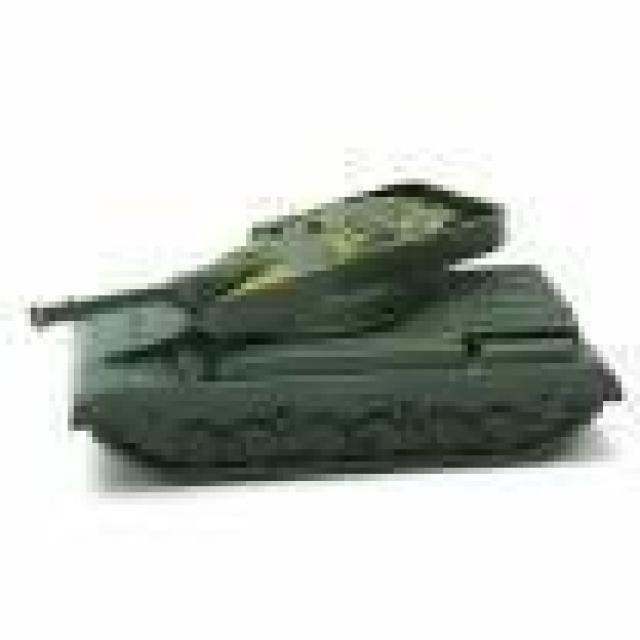Tanks: (7, 178, 616, 498)
